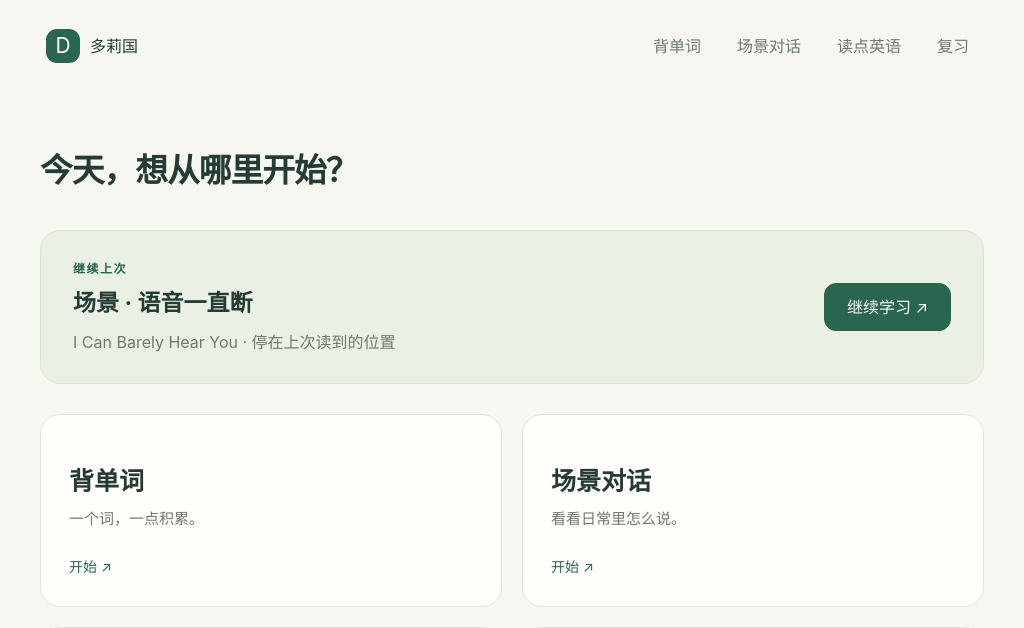
Test: opens extension scene scene-voice-keeps-cutting from home resume
The width and height of the screenshot is (1024, 628).
What coordinates should you click on to do the following:
click the button "继续学习 ↗"
I would click on:
 (888, 307)
Its box is [824,283,951,332].
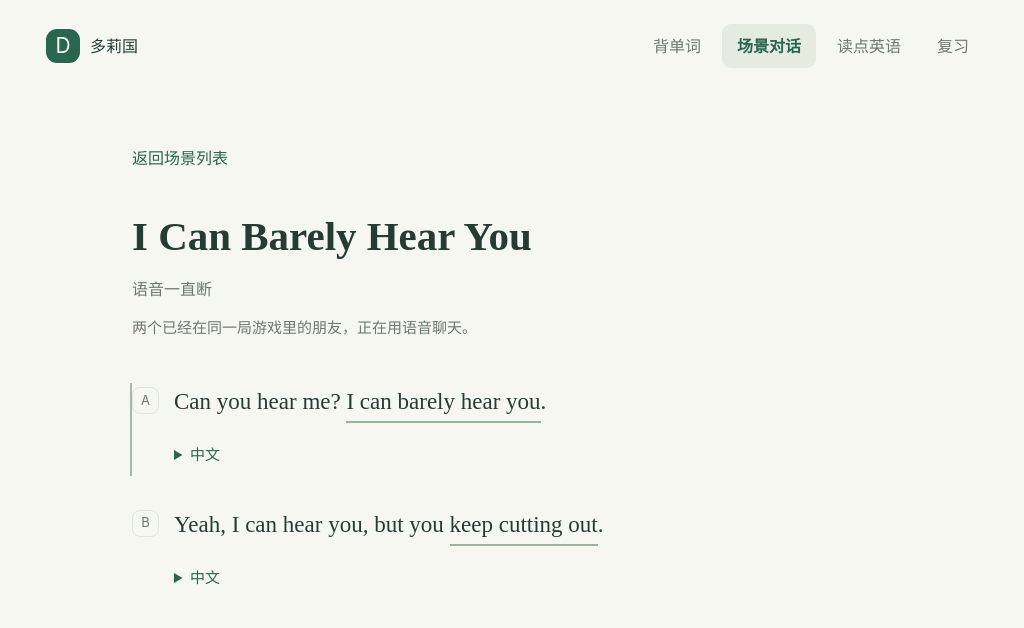
expect the heading "I Can Barely Hear You" is shown: met, box [132,213,532,259]
